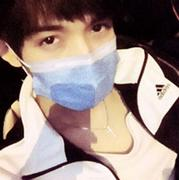OK: (22, 14, 117, 109)
